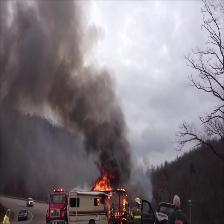fire: (95, 177, 112, 192)
smoke: (7, 24, 85, 94), (77, 99, 120, 142), (102, 150, 127, 172)
